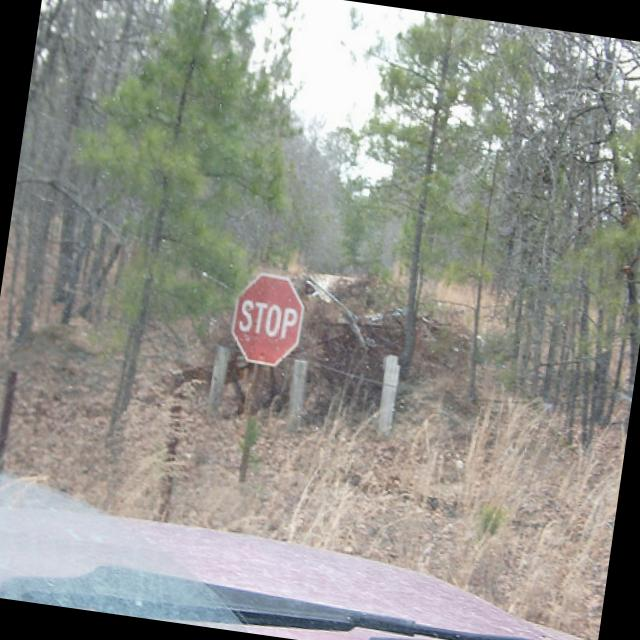Vehicle: (0, 491, 606, 640)
